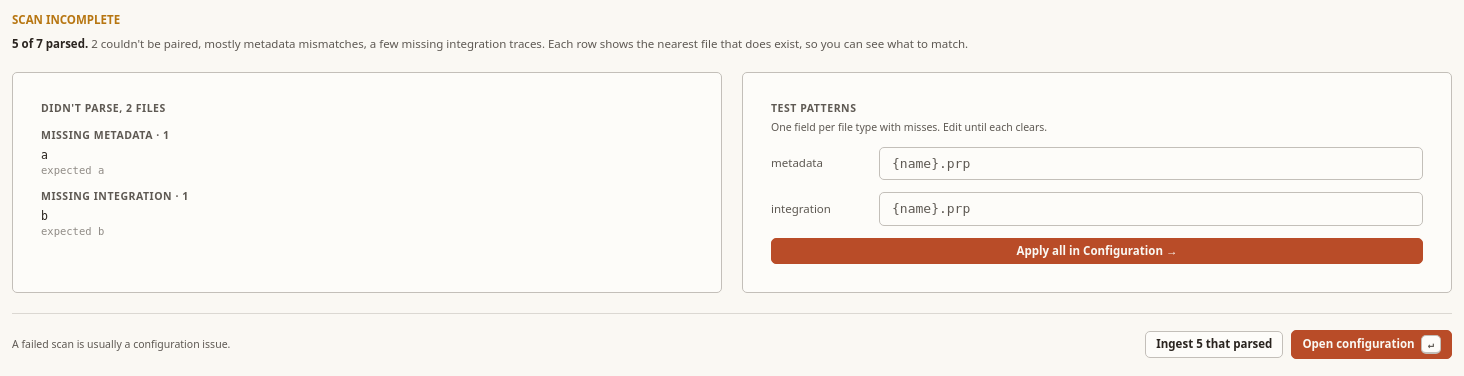
Test: ScanFailedPage › groups misses, offers per-type test + ingest-N confirm
This screenshot has width=1464, height=376.
Expected: the button "Open configuration ↵" is shown, [1291,330,1452,359]
Expected: the text "a" is shown, [41,148,48,162]
Note: Two-stage confirm: first click shows Confirm.
Click the button "Ingest 5 that parsed" at (1214, 345), box [1145,332,1283,358]
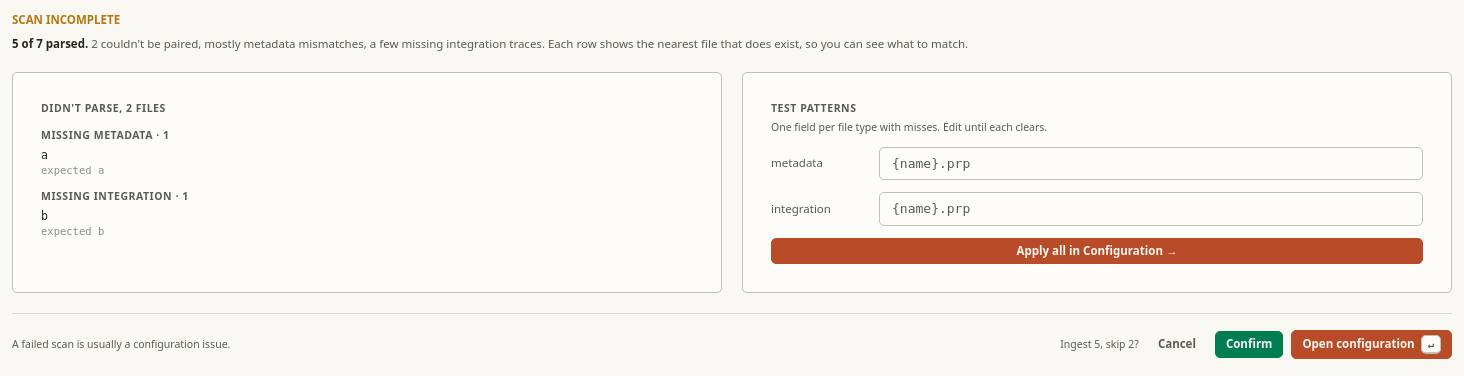
Expected: the button "Confirm" is shown, [1215,332,1283,358]
